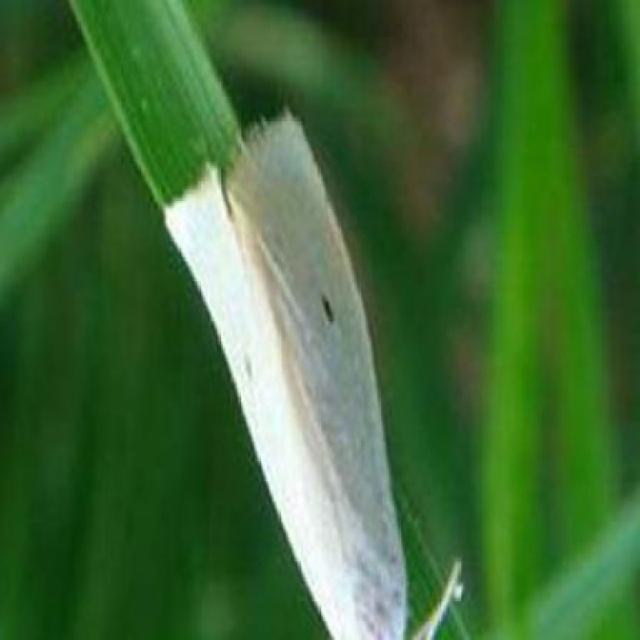stem-borer: (161, 98, 465, 640)
